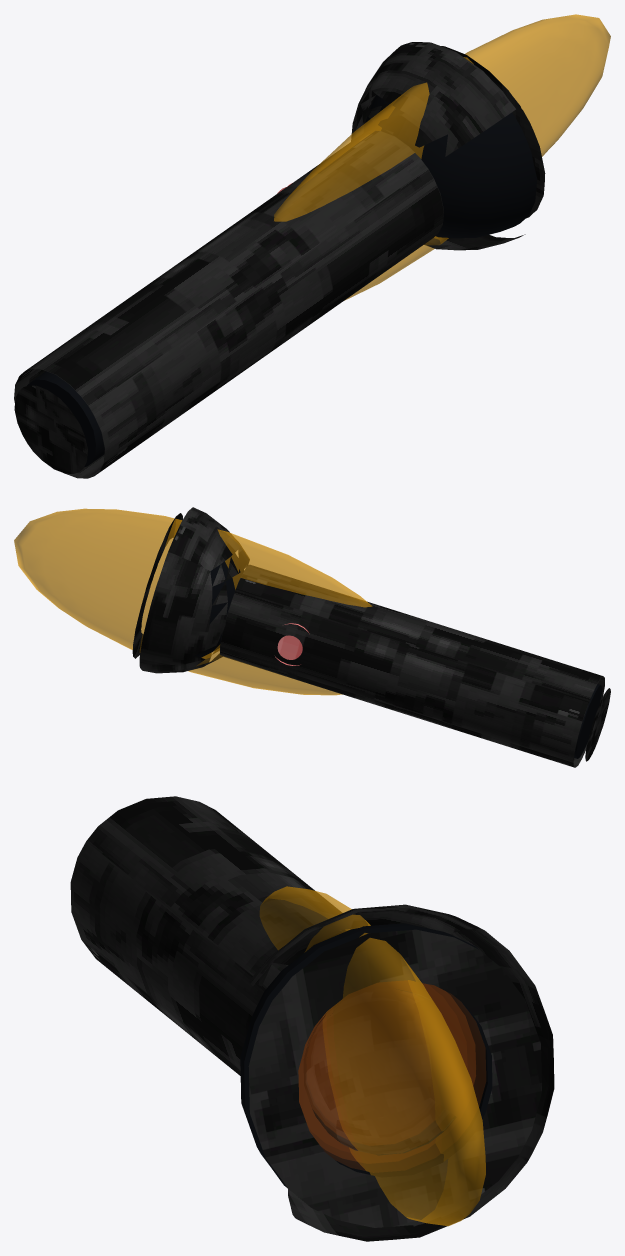
File: flashlight_rbx_export.obj
3 views of the same model, one above another, from view 1: azimuth 30°, elevation 25°; view 2: azimuth 150°, elevation 25°; view 3: azimuth 270°, elevation 25° (orthographic). The views are drawn at different scales.
Parts seen in each view (by area): view 1: Body6, Body2, Ball1, Head1, Head4, Body5, Body1, Head5, Head2, Head3; view 2: Body3, Ball1, Body6, Head3, Head4, Body4, Head1, Head5, Body1, Body5, Head2, Button2; view 3: Head5, Ball1, Body6, Glass1, Body2, Head1, Head4, Head3, Head2.
Boxes of the visible parts, x1=… form: Body6: x1=25, y1=131, x2=427, y2=406; Body2: x1=89, y1=168, x2=443, y2=475; Ball1: x1=274, y1=14, x2=610, y2=300; Head1: x1=364, y1=95, x2=537, y2=238; Head4: x1=364, y1=42, x2=515, y2=156; Body5: x1=14, y1=385, x2=87, y2=473; Body1: x1=27, y1=371, x2=104, y2=467; Head5: x1=441, y1=46, x2=545, y2=218; Head2: x1=424, y1=234, x2=525, y2=250; Head3: x1=351, y1=52, x2=393, y2=141; Body3: x1=220, y1=590, x2=589, y2=762; Ball1: x1=14, y1=508, x2=372, y2=695; Body6: x1=236, y1=565, x2=604, y2=701; Head3: x1=139, y1=552, x2=227, y2=665; Head4: x1=168, y1=507, x2=249, y2=580; Body4: x1=220, y1=651, x2=587, y2=767; Head1: x1=195, y1=553, x2=243, y2=657; Head5: x1=132, y1=513, x2=182, y2=658; Body1: x1=574, y1=684, x2=602, y2=758; Body5: x1=585, y1=688, x2=610, y2=761; Head2: x1=139, y1=648, x2=222, y2=673; Button2: x1=277, y1=635, x2=302, y2=659; Head5: x1=248, y1=929, x2=541, y2=1227; Ball1: x1=259, y1=886, x2=485, y2=1226; Body6: x1=86, y1=796, x2=350, y2=987; Glass1: x1=298, y1=981, x2=485, y2=1170; Body2: x1=70, y1=841, x2=266, y2=1075; Head1: x1=240, y1=923, x2=497, y2=1197; Head4: x1=249, y1=904, x2=482, y2=1155; Head3: x1=303, y1=928, x2=554, y2=1162; Head2: x1=288, y1=988, x2=526, y2=1241.
Size of the model in its own units: 1.29 by 0.4859 by 0.524.
8 materials, 3 textured.
